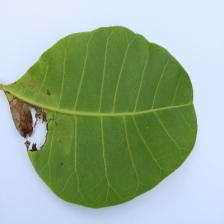leaf miner: (9, 92, 51, 155)
